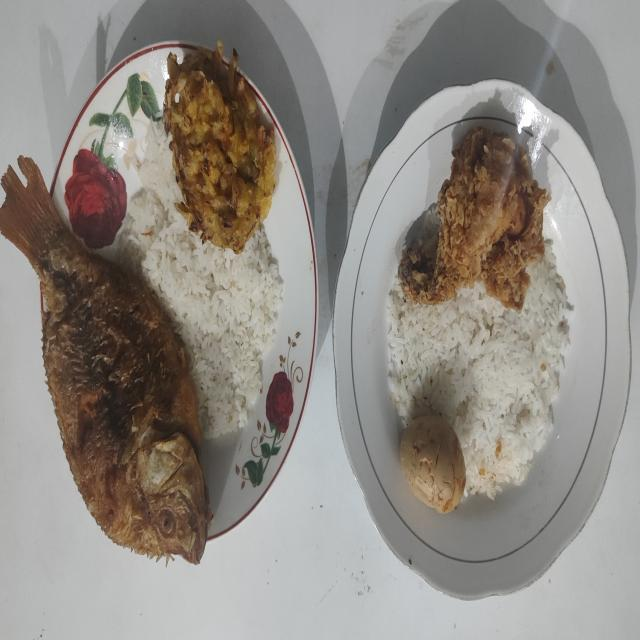ikan_mujair: (0, 156, 211, 564)
nasi_putih: (113, 122, 283, 438), (387, 244, 570, 498)
